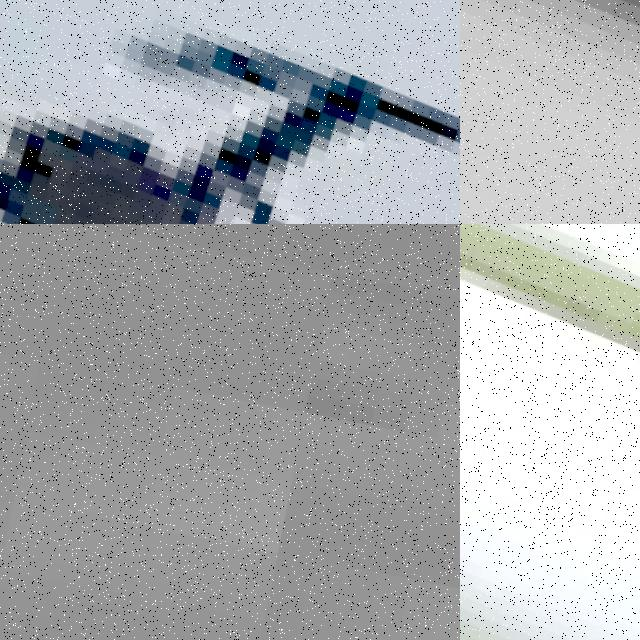0: (460, 0, 640, 224)
drone: (0, 0, 460, 224), (460, 224, 640, 640)
